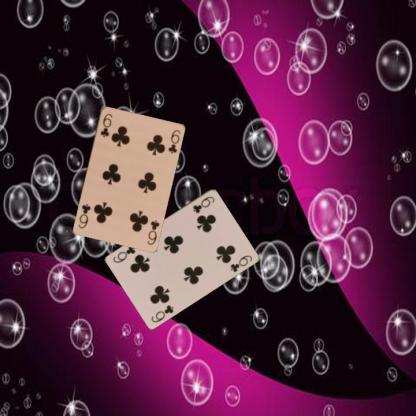6c: (149, 302, 175, 324), (190, 193, 216, 214), (144, 217, 160, 246), (98, 110, 113, 138)
